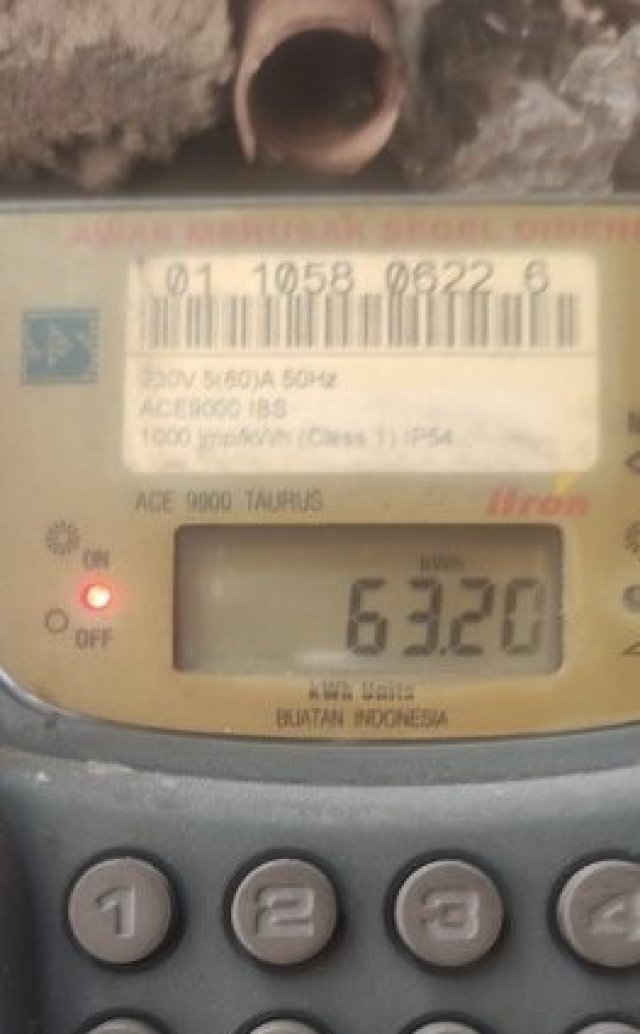box: (177, 521, 564, 676)
